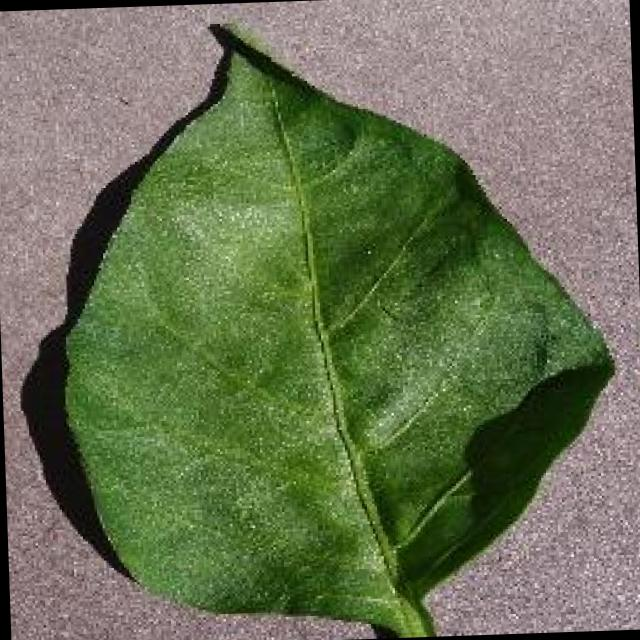Chilli_Healthy: (47, 5, 623, 640)
